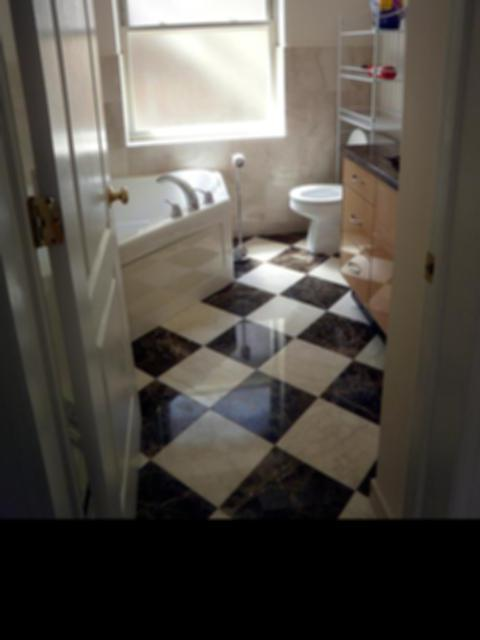Lavamanos: (287, 137, 402, 256)
